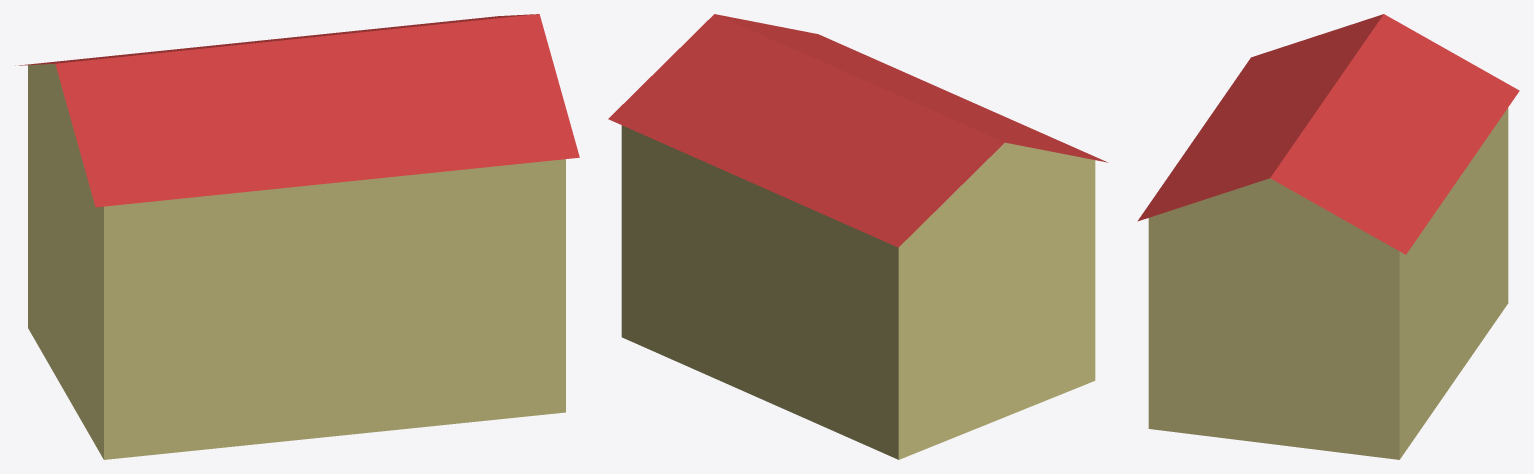
3 views of the same model, side by side, from view 1: azimuth 30°, elevation 25°; view 2: azimuth 150°, elevation 25°; view 3: azimuth 270°, elevation 25° (orthographic). The views are drawn at different scales.
Parts seen in each view (by area): view 1: group_5, group_3, group_4; view 2: group_5, group_3, group_4; view 3: group_5, group_3, group_4.
Part boxes in pixels (<box>): group_5: <box>28,64,565,459</box>; group_3: <box>15,14,579,207</box>; group_4: <box>44,14,541,207</box>; group_5: <box>621,99,1095,459</box>; group_3: <box>613,14,1099,247</box>; group_4: <box>608,14,1107,215</box>; group_5: <box>1148,108,1508,459</box>; group_3: <box>1137,14,1519,252</box>; group_4: <box>1219,14,1489,254</box>.
Size of the model in its own units: 25.21 by 20.64 by 16.06.
